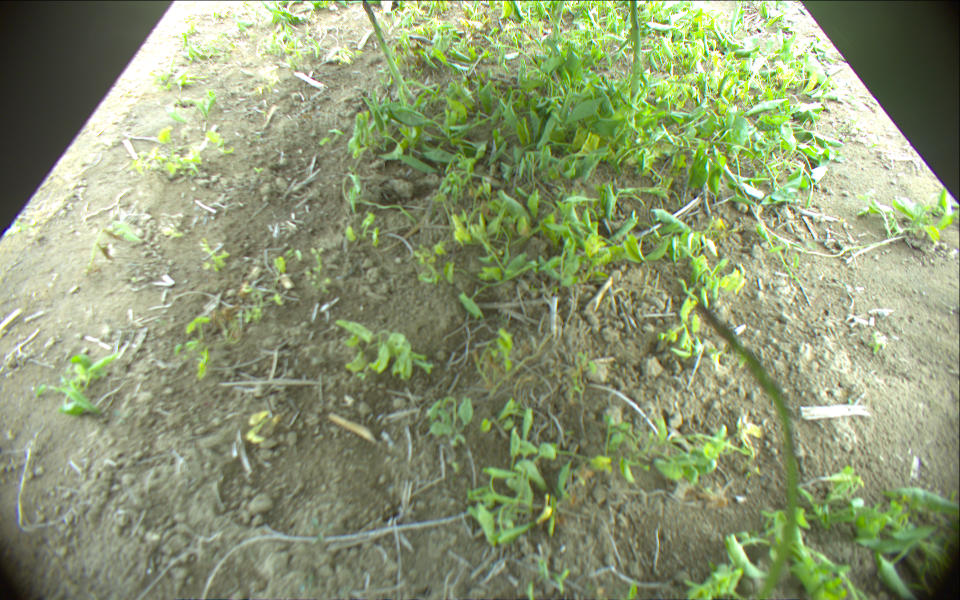aspa: (695, 302, 800, 600), (361, 1, 415, 97), (625, 1, 641, 104), (554, 1, 565, 49)
